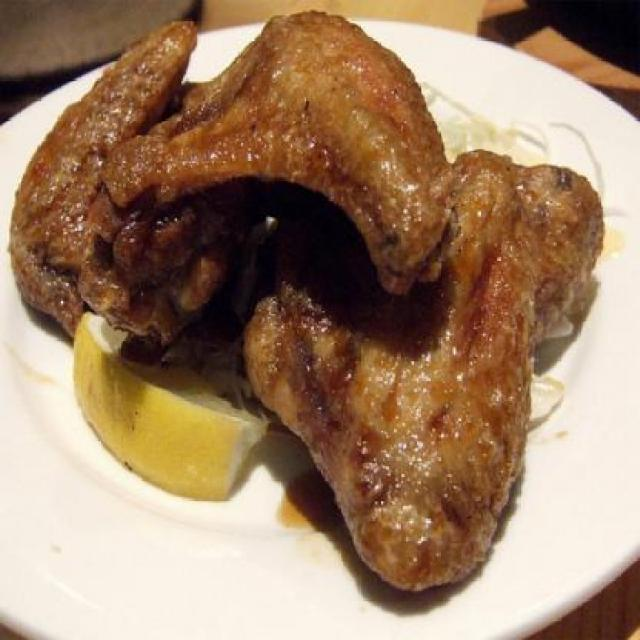Deep fried chicken wing: (22, 24, 610, 574)
Lemon: (63, 318, 271, 512)
